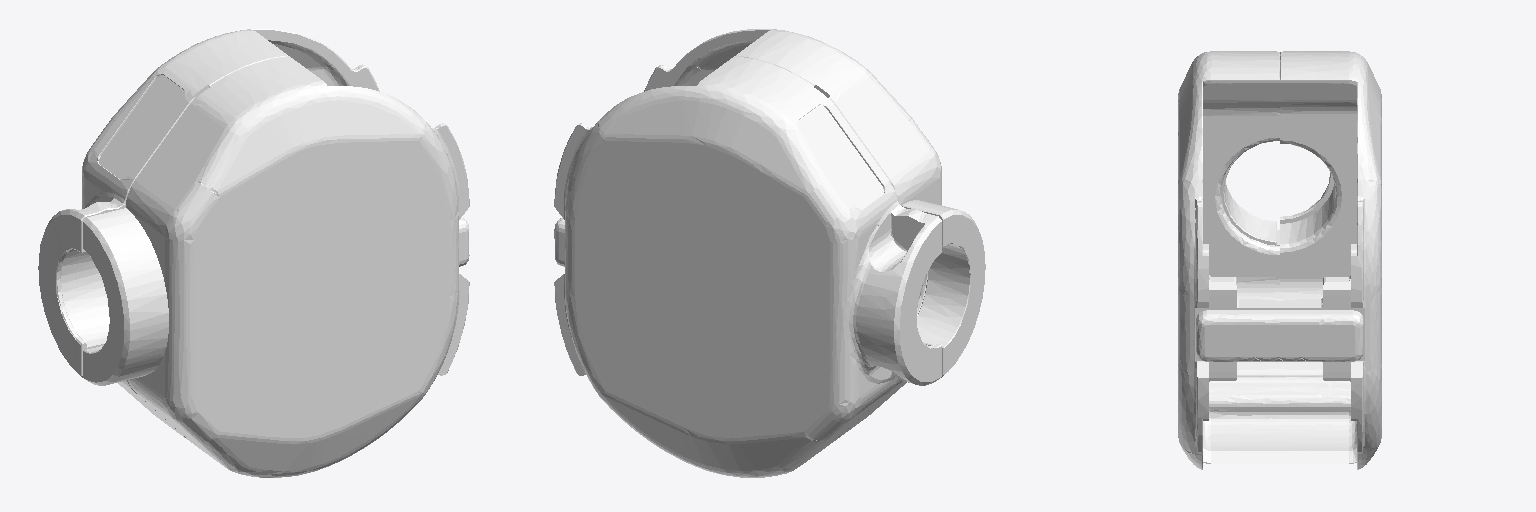
Rendered from palm_H_UV_100430.obj.
The picture shows the model from 3 angles: view 1: azimuth 30°, elevation 25°; view 2: azimuth 150°, elevation 25°; view 3: azimuth 270°, elevation 25°; orthographic projection.
Bounding box in the file's own units: 0.9611 × 1.02 × 0.485.